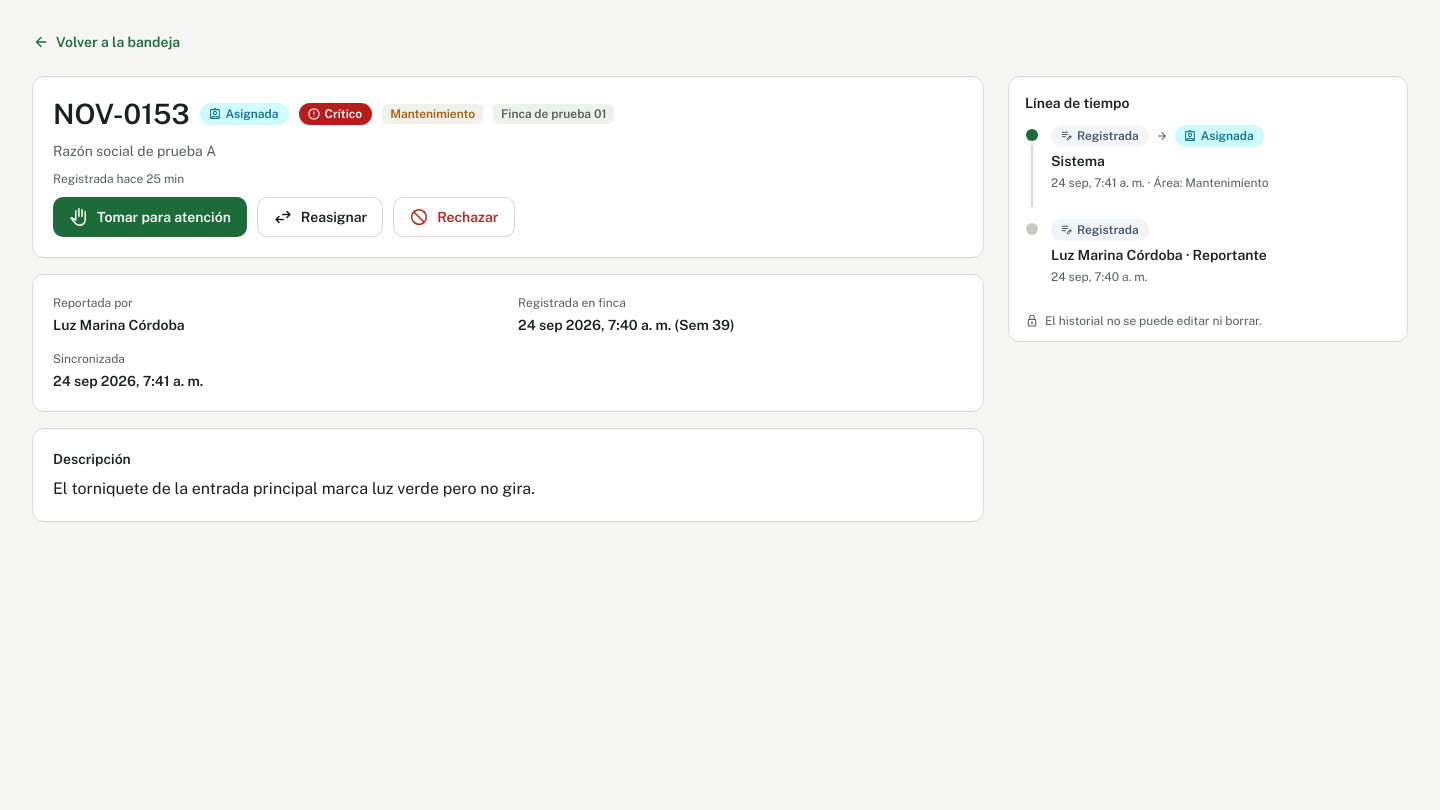
Test case: Acciones en el detalle (RF-18 / CU-18 5 y RF-10 / CU-10) › RF-11 / CU-11: al rechazarla, el detalle queda Rechazada, con el motivo en la línea de tiempo y sin acciones
This screenshot has width=1440, height=810.
Click the button "Rechazar" at (454, 217), box [393,197,514,237]
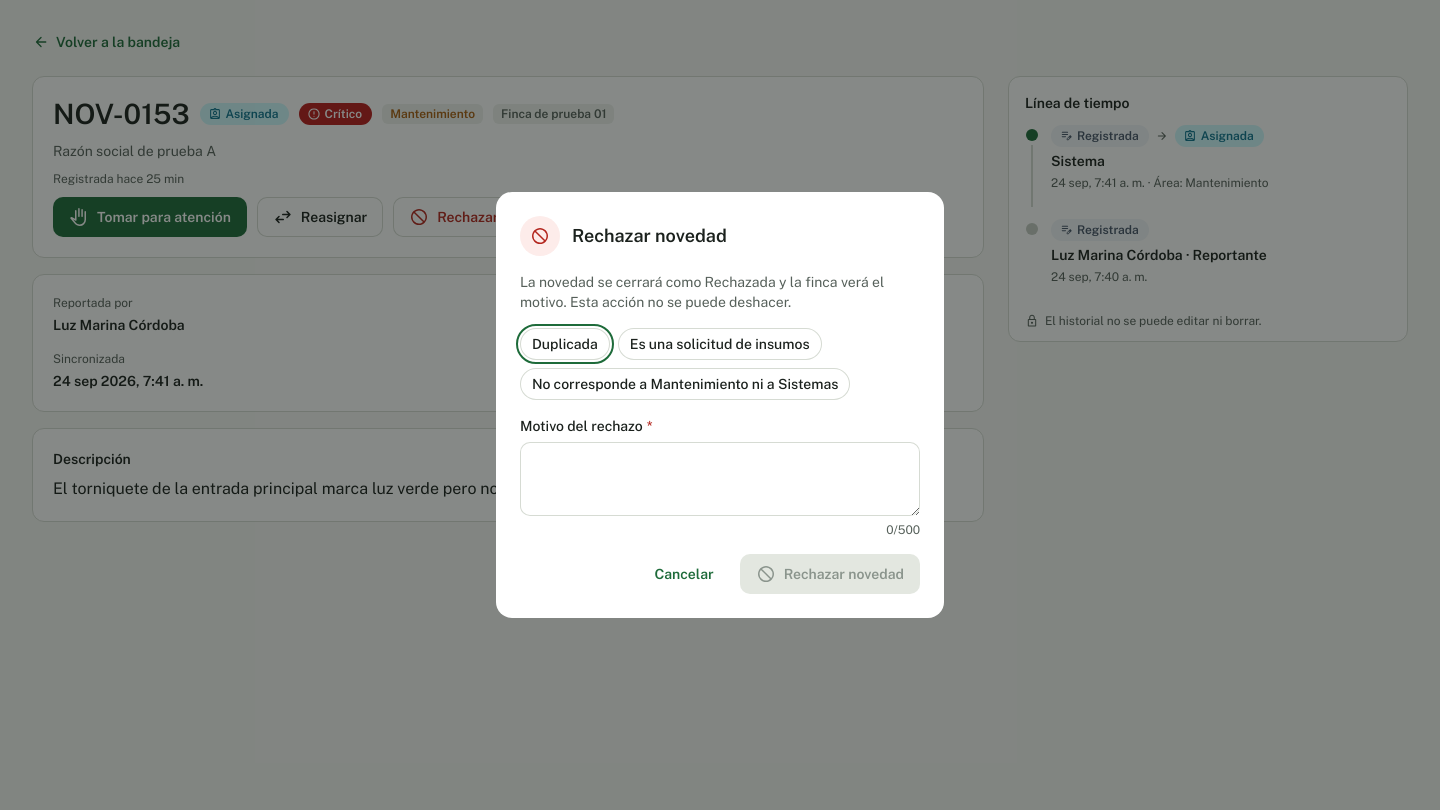
Click the button "Duplicada" at (565, 344), box [520,328,610,360]
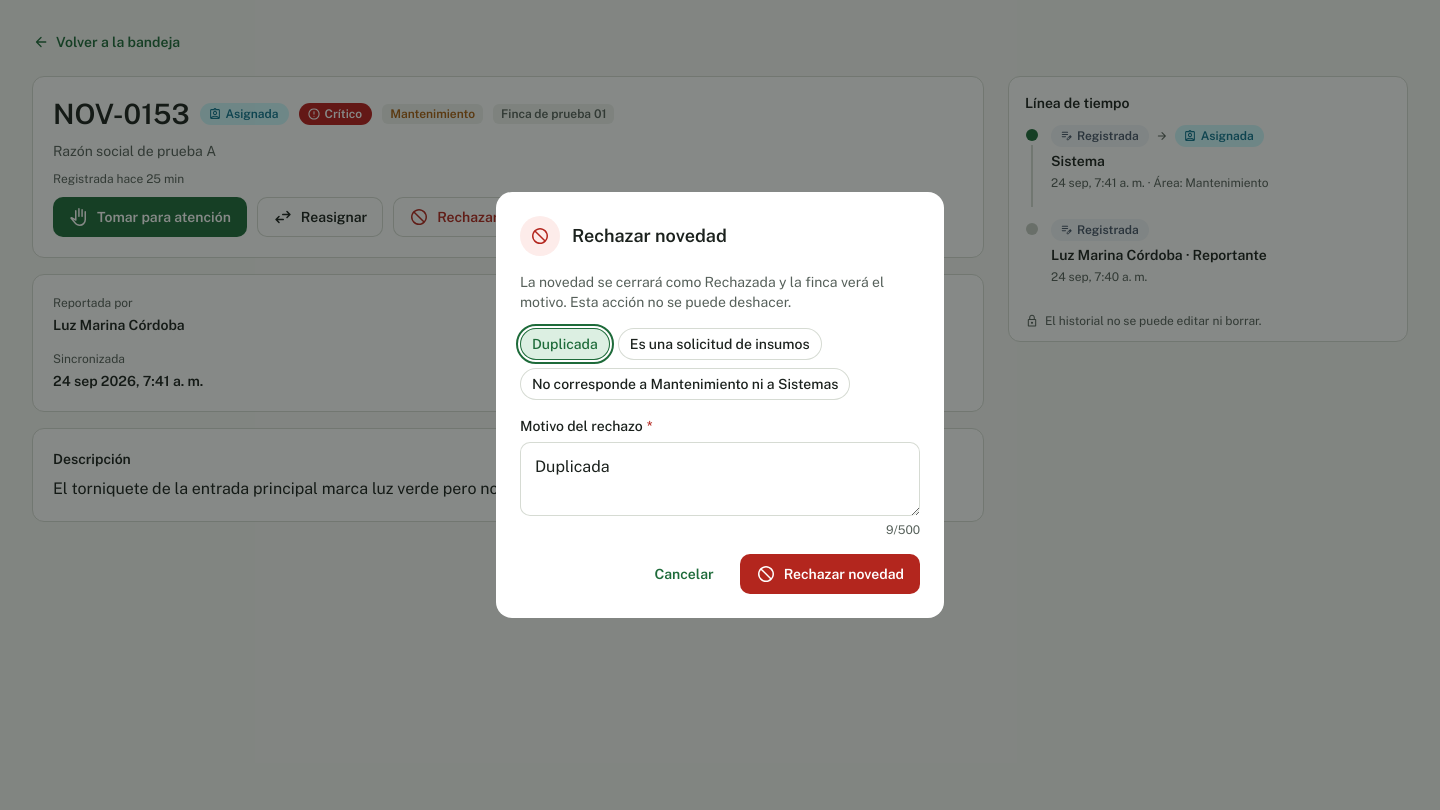
Click the button "Rechazar novedad" at (830, 574), box [740,554,920,594]
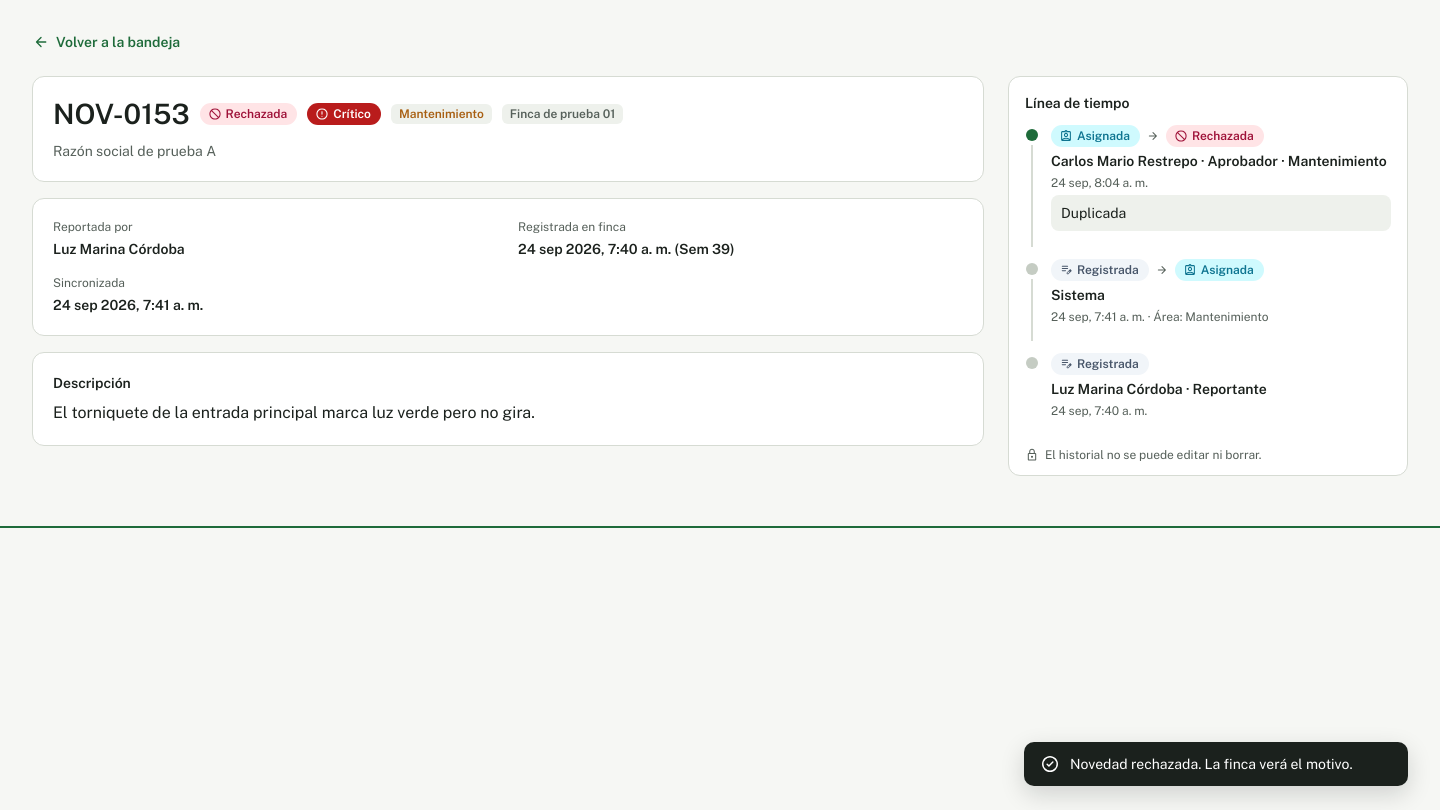
Expected: the text "Duplicada" is shown, [1051,195,1391,231]
Expected: the text "Novedad rechazada. La finca verá el motivo." is shown, [1070,754,1392,774]
Expected: the button "Tomar para atención" is gone
